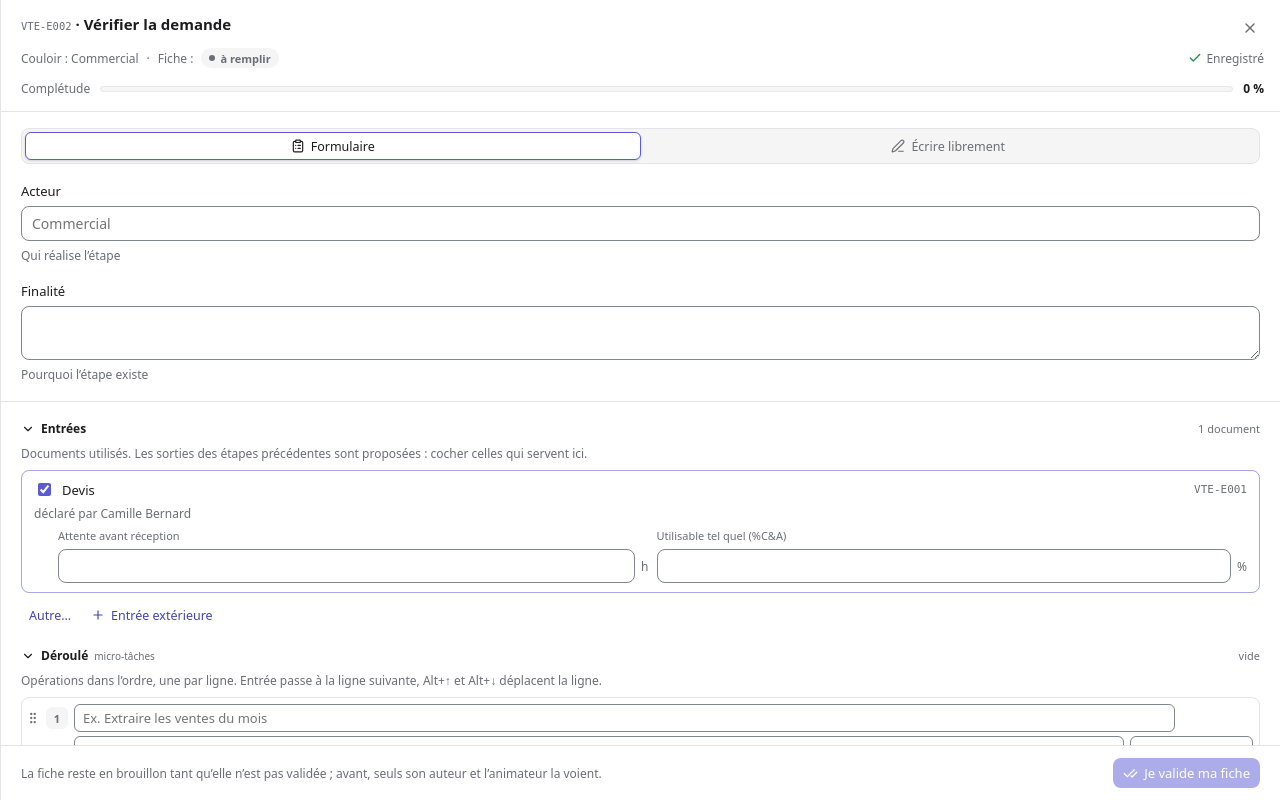
Test: the use of a ticked input (B-4-71 to B-4-75) › under 100 %, the pain point of 2000 characters raised on the producer, then its time lost; sent on leaving the field or on Enter
In the number field named "Part de « Devis » utilisable telle quelle, en %": (944, 566) left=656, top=549, right=1231, bottom=583, type "70"
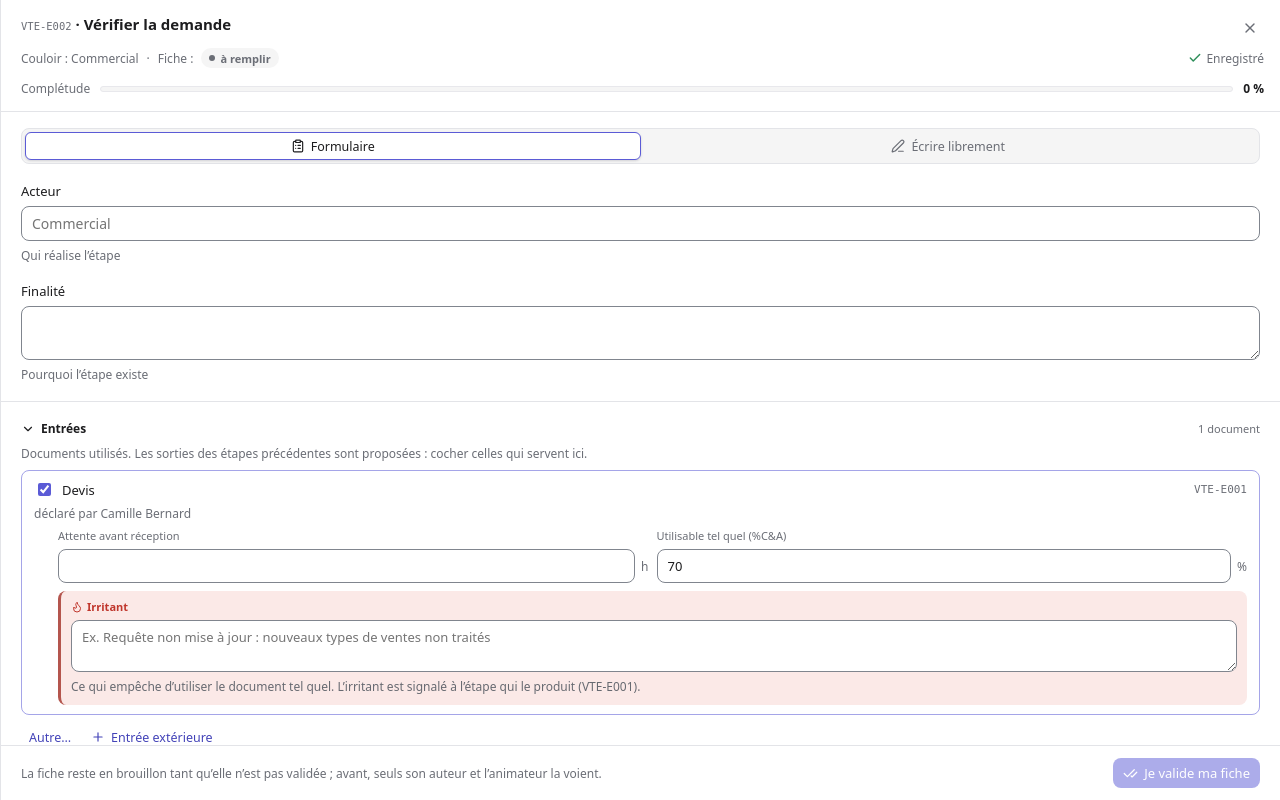
Check: the element with test id "use-pain-d1" shows "L’irritant est signalé à l’étape qui le produit (VTE-E001).", box left=71, top=678, right=640, bottom=695
Replace the text in the text box named "Irritant sur « Devis »" with " Sans numéro ": (654, 646) left=71, top=620, right=1237, bottom=672
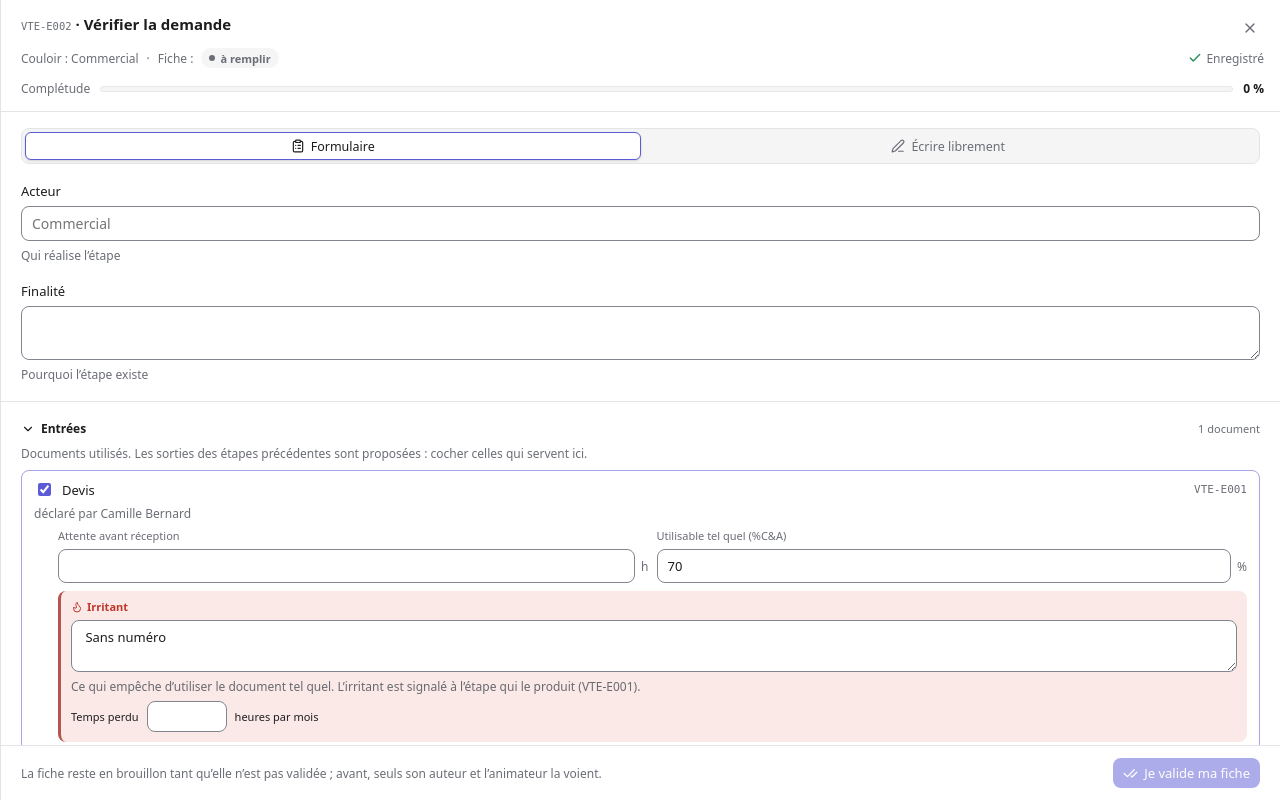
In the number field named "Temps perdu à cause de « Devis », en heures par mois": (187, 716) left=147, top=701, right=227, bottom=732, type "2"
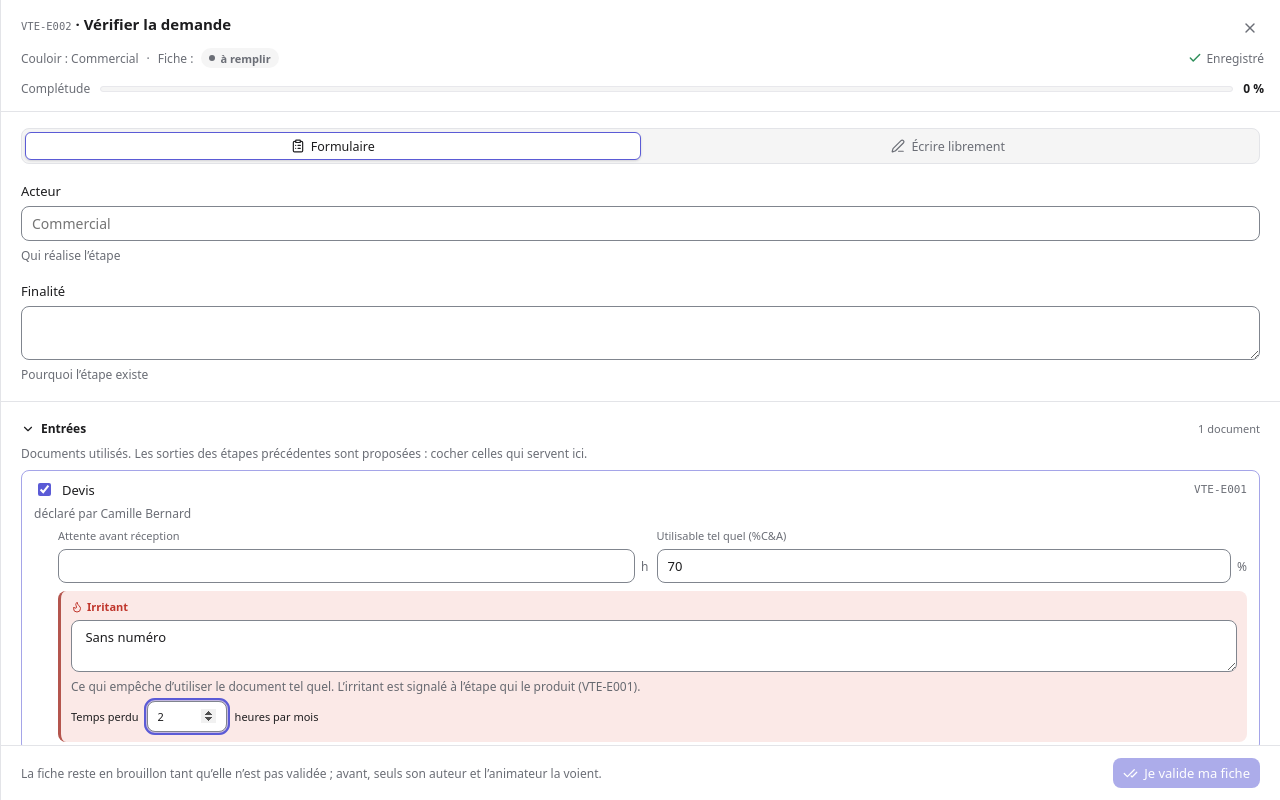
Press Enter in the number field named "Temps perdu à cause de « Devis », en heures par mois", box left=147, top=701, right=227, bottom=732
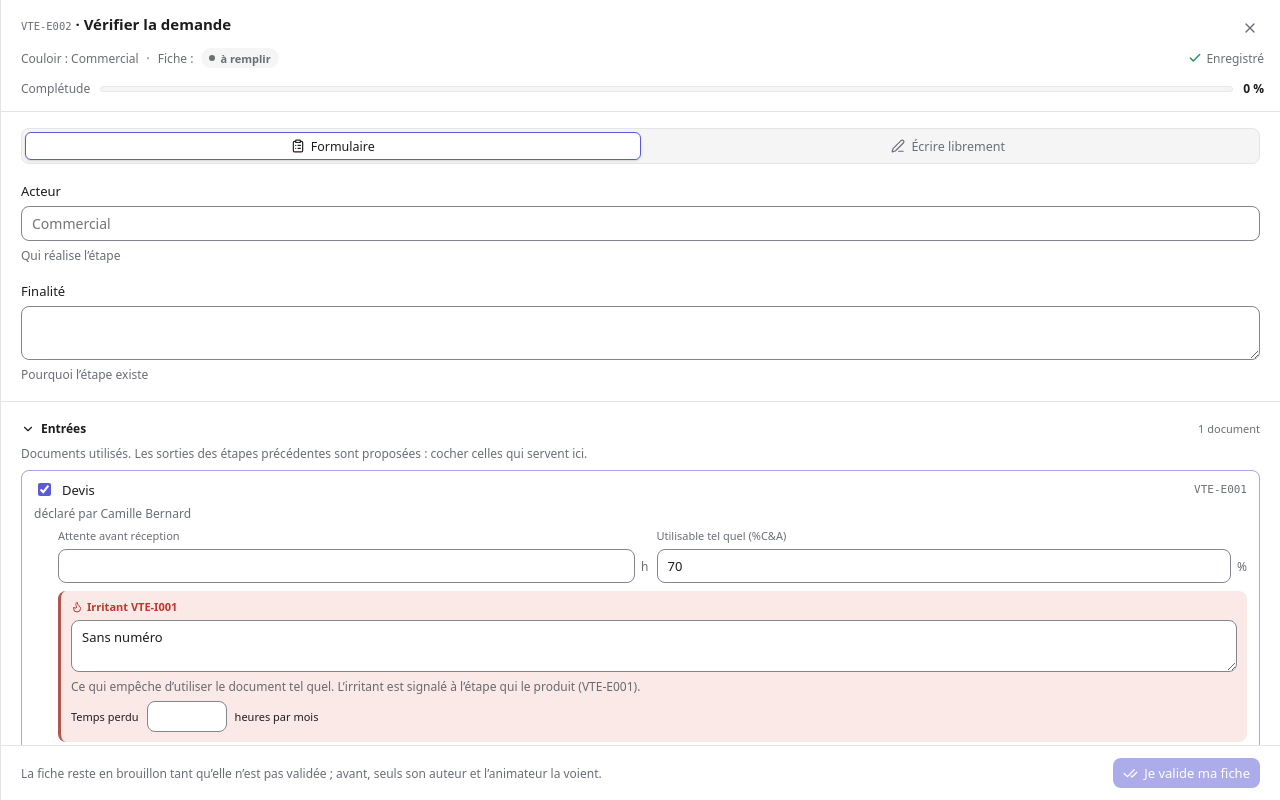
Check: the element with test id "use-pain-d1" shows "Irritant VTE-I001", box left=87, top=599, right=177, bottom=614
